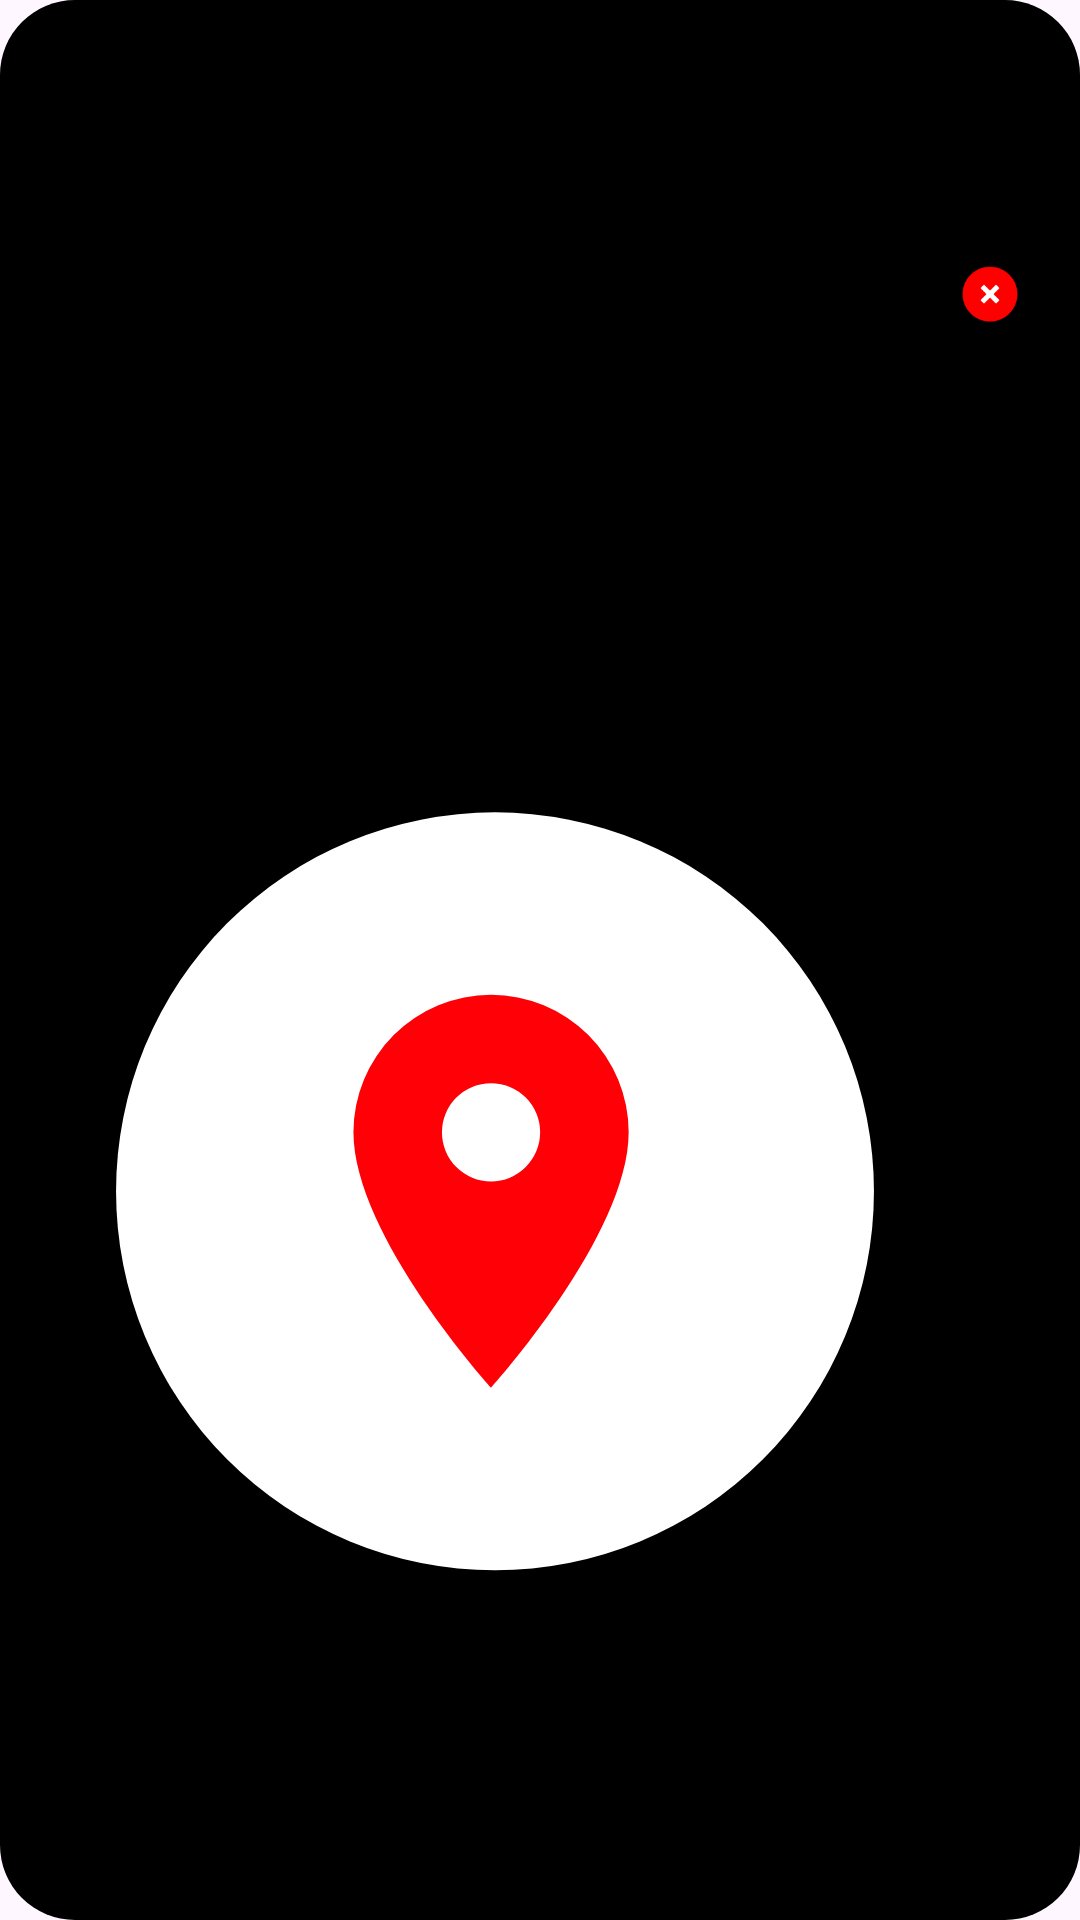

Icons on this 1080*1920 Android screen, each with the point to tap as (x,y):
close: (990,294)
